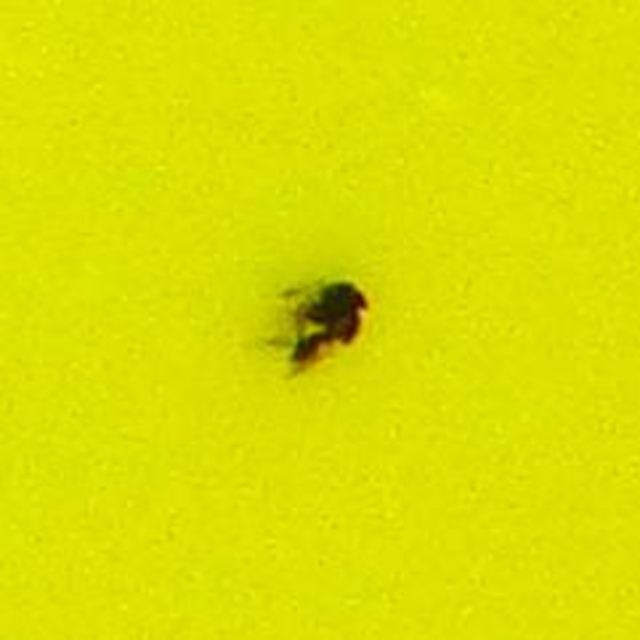Hymenoptera: (266, 264, 374, 376)
